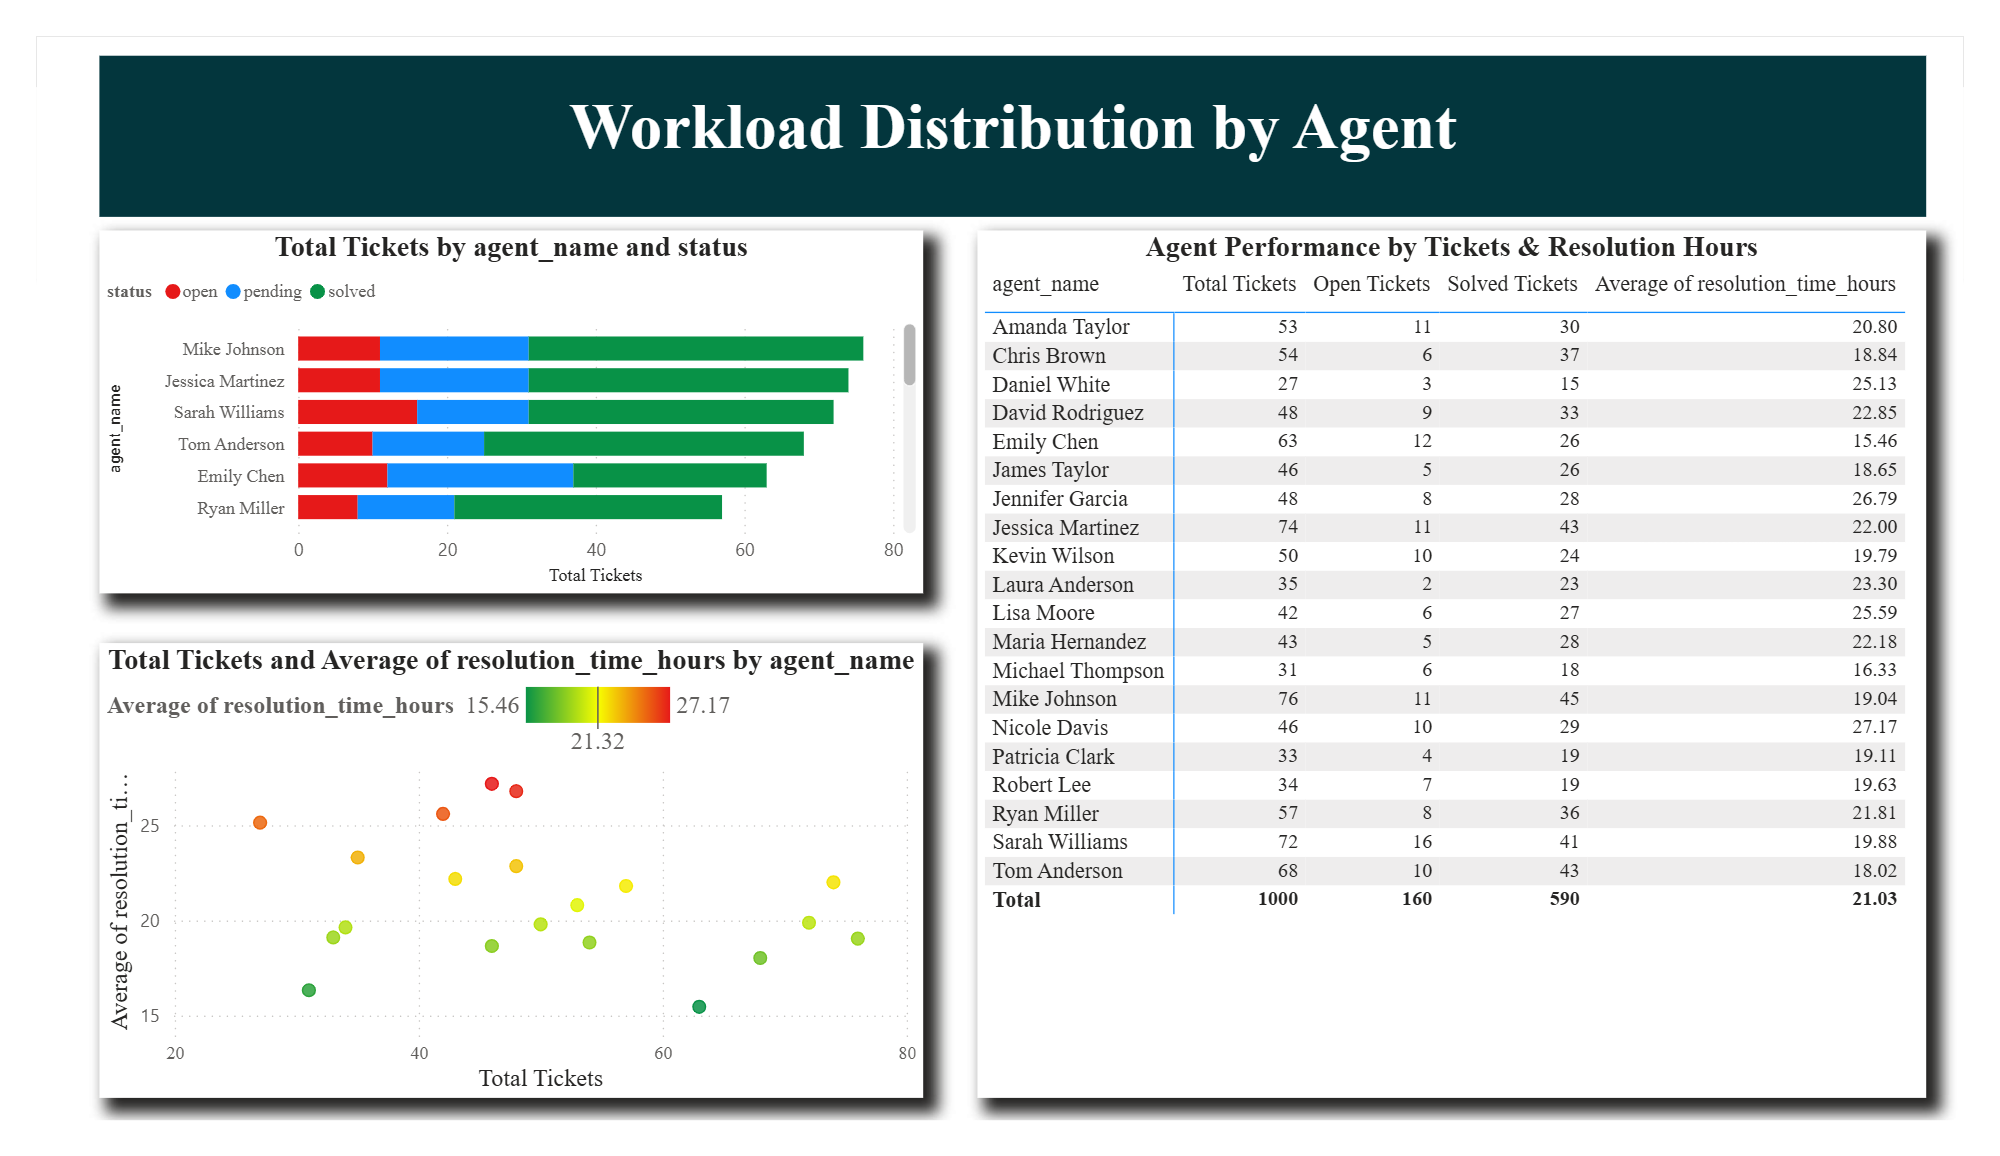

What the dashboard file says about the page in this screenshot:
{"tool":"powerbi","page":{"name":"2. Workload Distribution by Agent","canvas":[1280,720],"ordinal":1},"visuals":[{"type":"barChart","fields":{"Series":["tickets.status"],"Category":["tickets.agent_name"],"Y":["tickets.Total Tickets"]},"box":[41.8,129.1,546.9,241.2],"z":0},{"type":"pivotTable","title":"Agent Performance by Tickets & Resolution Hours","fields":{"Rows":["tickets.agent_name"],"Values":["tickets.Total Tickets","tickets.Open Tickets","tickets.Solved Tickets","Avg(tickets.resolution_time_hours)"]},"box":[624.8,129.1,630.5,575.4],"z":1},{"type":"scatterChart","fields":{"X":["tickets.Total Tickets"],"Y":["Avg(tickets.resolution_time_hours)"],"Category":["tickets.agent_name"]},"box":[41.8,402.6,546.9,302],"z":2},{"type":"textbox","box":[41.8,13.3,1213.5,106.4],"z":3}]}

Visuals, with their boxes in screenshot pixels (x1, y1, x2, y2), scaled from the page's 1280x720 canvas onto the 2000x1156 screenshot:
barChart - tickets.status x tickets.agent_name: region(65, 207, 920, 595)
"Agent Performance by Tickets & Resolution Hours" pivotTable: region(976, 207, 1961, 1131)
scatterChart - tickets.Total Tickets x Avg(tickets.resolution_time_hours): region(65, 646, 920, 1131)
textbox: region(65, 21, 1961, 192)
